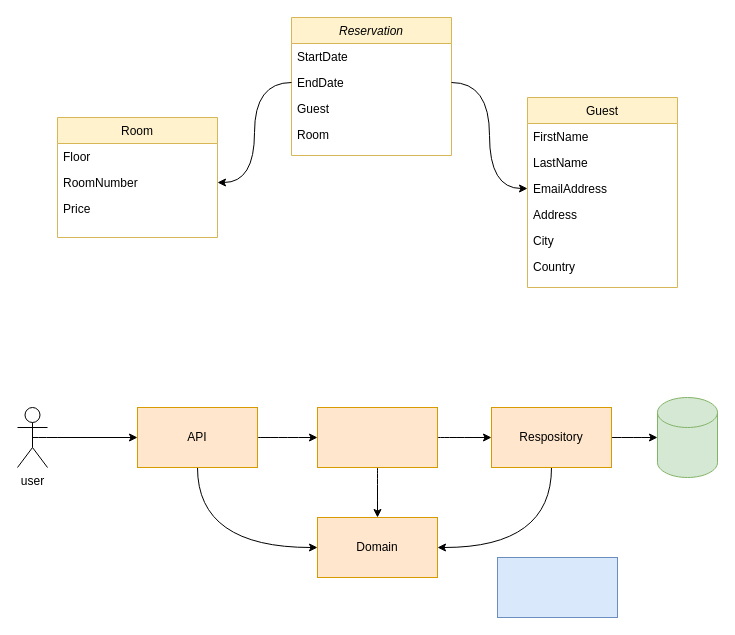
The diagram is 735 pixels wide and 635 high, and some of its shapes have lost their labels. The shapes that lost their labels are listed below. From the top down, each one's box as (x1, y1, x2, y2) in pixels, then its label:
(316, 406, 438, 468): Services
(656, 396, 718, 478): DB
(496, 556, 618, 618): Tests
